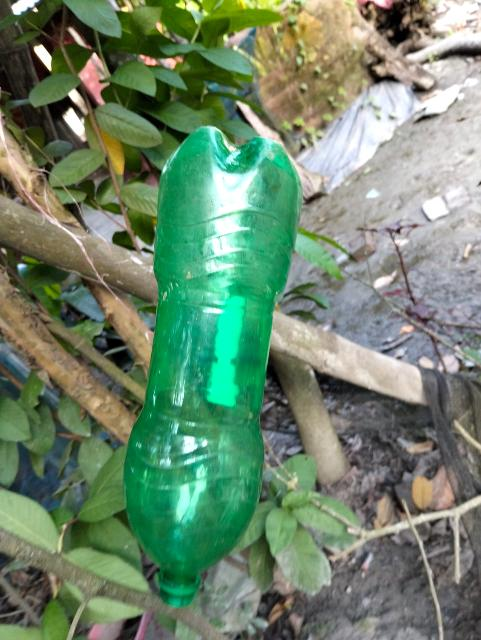bottle: (113, 121, 323, 610)
